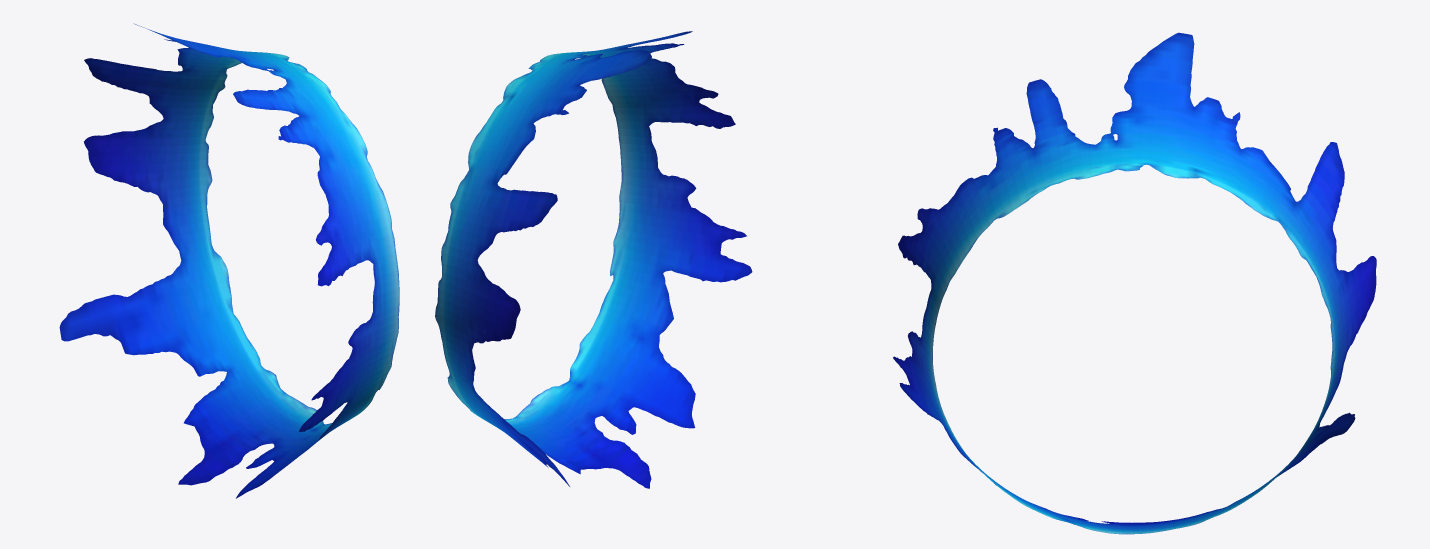
The model's file is Boost2.fbx.
3 views of the same model, side by side, from view 1: azimuth 30°, elevation 25°; view 2: azimuth 150°, elevation 25°; view 3: azimuth 270°, elevation 25° (orthographic). The views are drawn at different scales.
Parts seen in each view (by area): view 1: Boost2; view 2: Boost2; view 3: Boost2.
Part boxes in pixels (x1,y1,x2,y2): Boost2: (59,23,399,498); Boost2: (435,31,752,488); Boost2: (893,32,1376,534).
Size of the model in its own units: 103 by 292 by 292.
